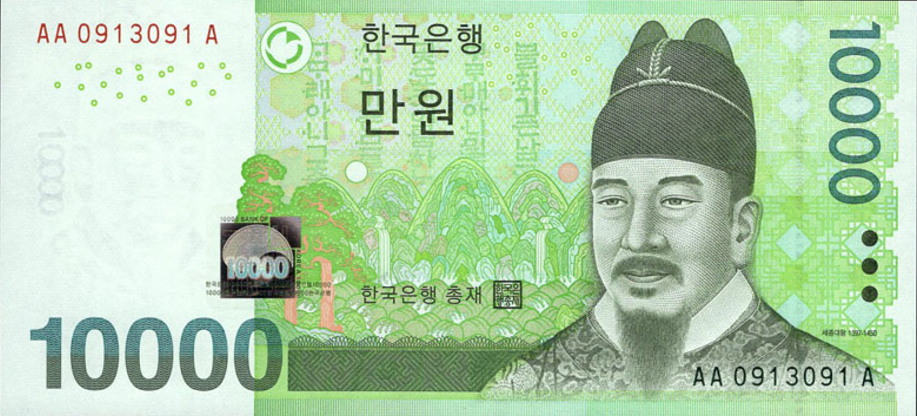10000won: (1, 1, 916, 415)
